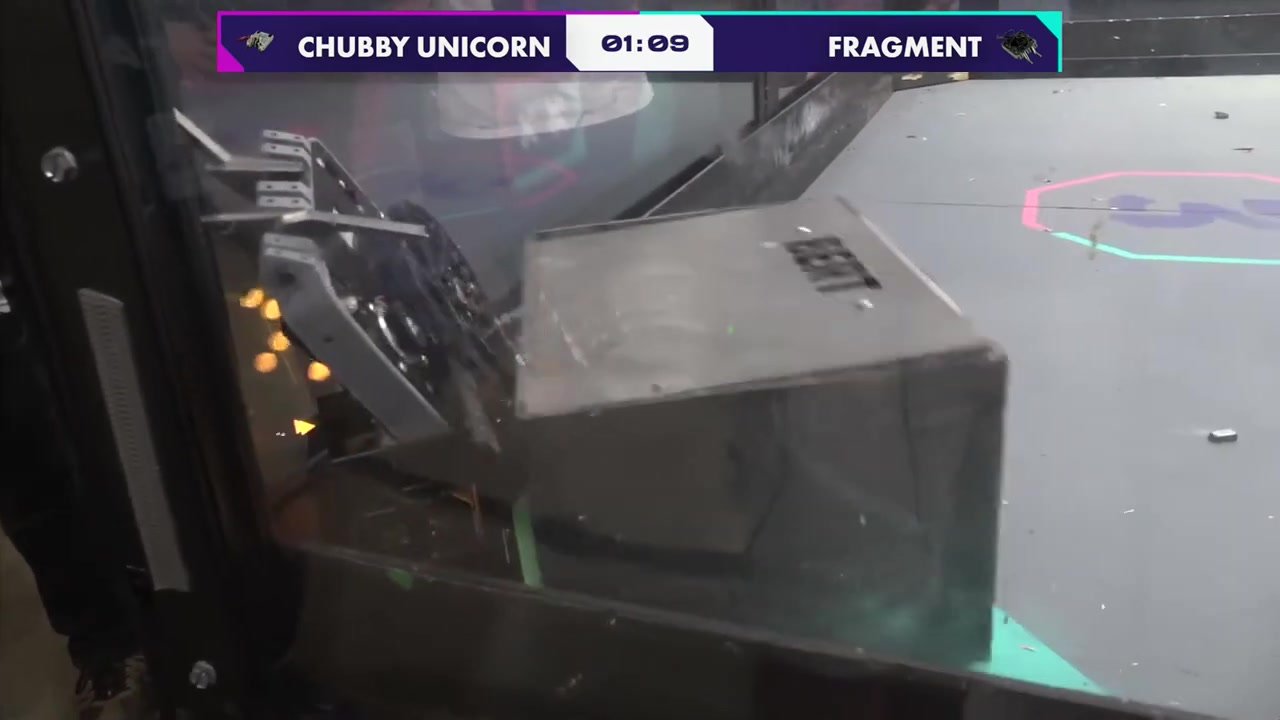combatbot: (176, 108, 519, 502)
debris: (1209, 429, 1238, 446)
housebot: (522, 192, 1010, 665)
